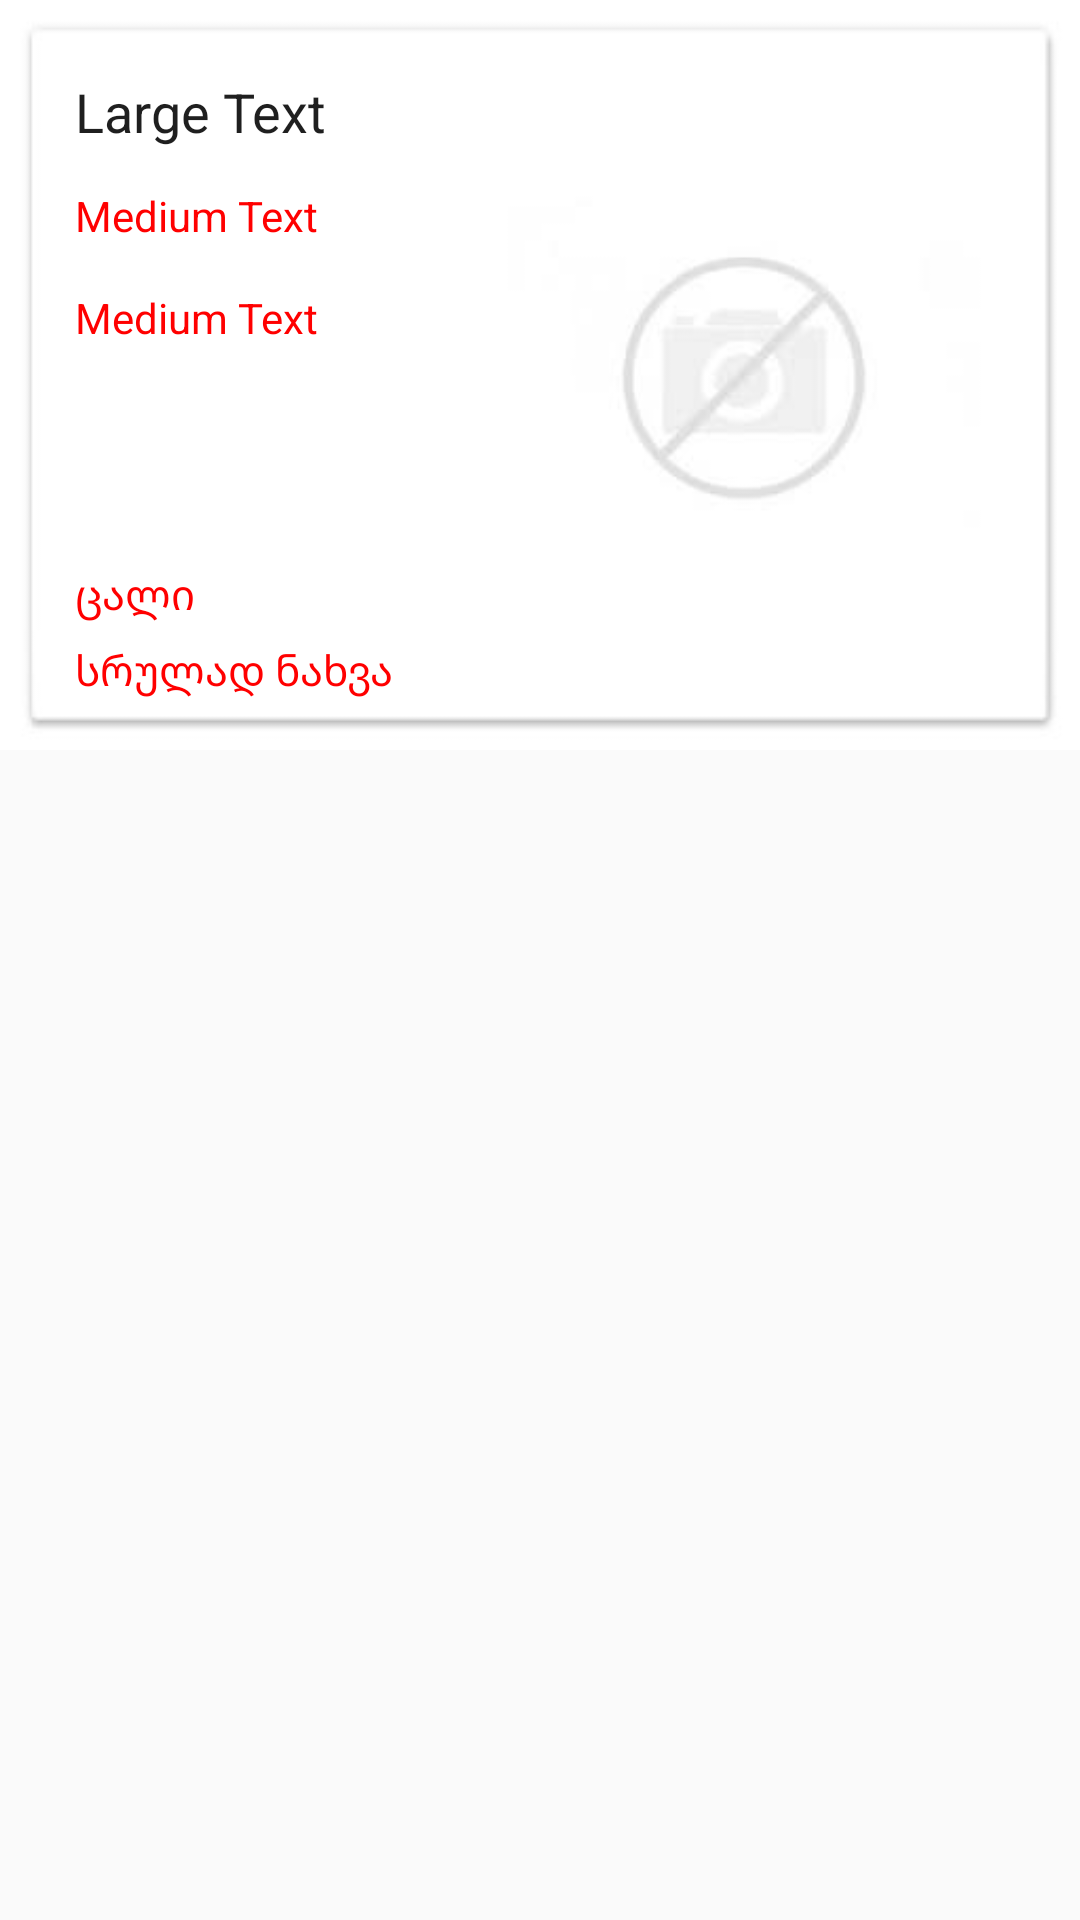

Icons on this 1080px x 1920px Android screen, each with its box as (x1, y1, x2, y2):
noimage: (624, 258, 864, 497)
